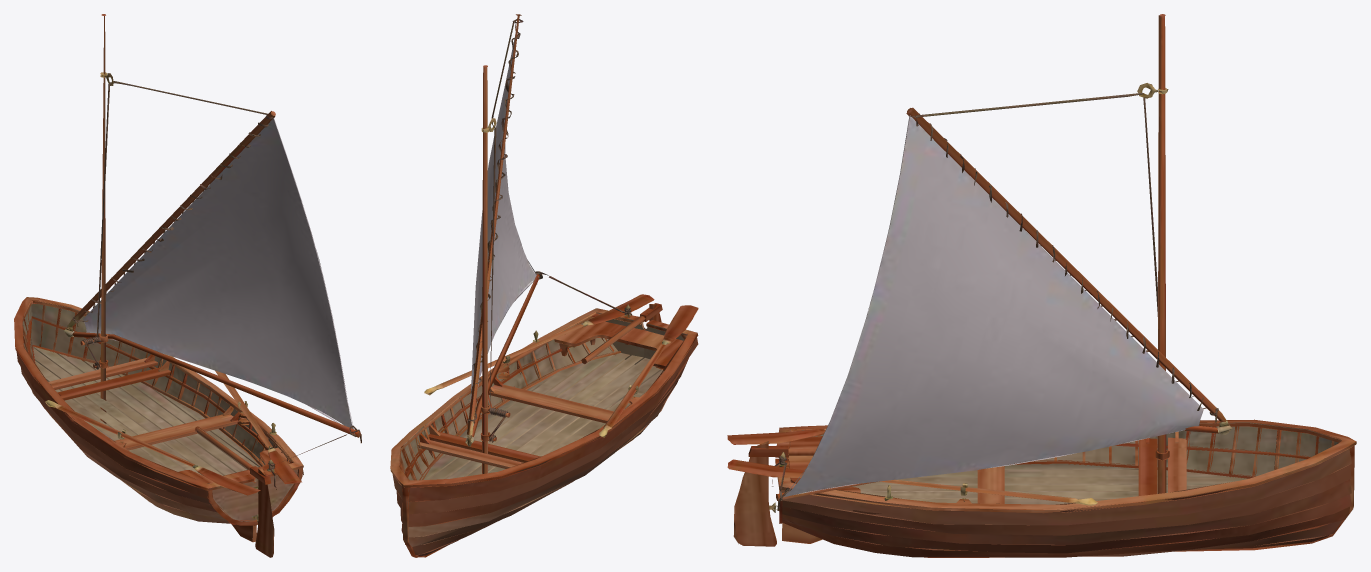
File: fishboat.glb
The picture shows the model from 3 angles, left to right: view 1: azimuth 30°, elevation 25°; view 2: azimuth 150°, elevation 25°; view 3: azimuth 270°, elevation 25°; orthographic projection. The views are drawn at different scales.
Parts seen in each view (by area): view 1: Plane.004_Boat_0; view 2: Plane.004_Boat_0; view 3: Plane.004_Boat_0.
Part boxes in pixels (left/top/right/bottom): Plane.004_Boat_0: left=14, top=14, right=361, bottom=557; Plane.004_Boat_0: left=390, top=14, right=698, bottom=557; Plane.004_Boat_0: left=727, top=14, right=1356, bottom=557.
Size of the model in its own units: 1.41 by 3 by 3.2.
1 material, 1 textured.
